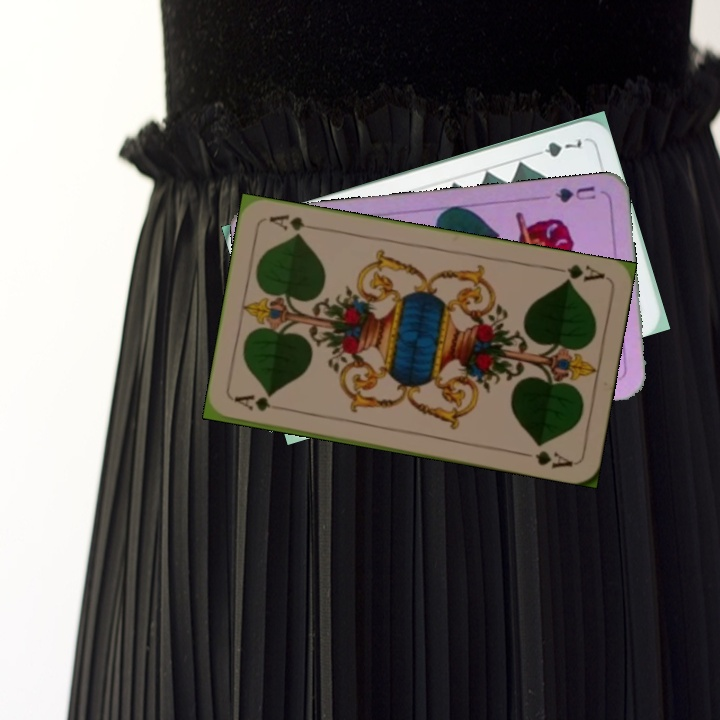G7: (528, 134, 585, 160)
GA: (548, 260, 608, 286), (231, 391, 289, 414)
GU: (550, 182, 598, 206)
